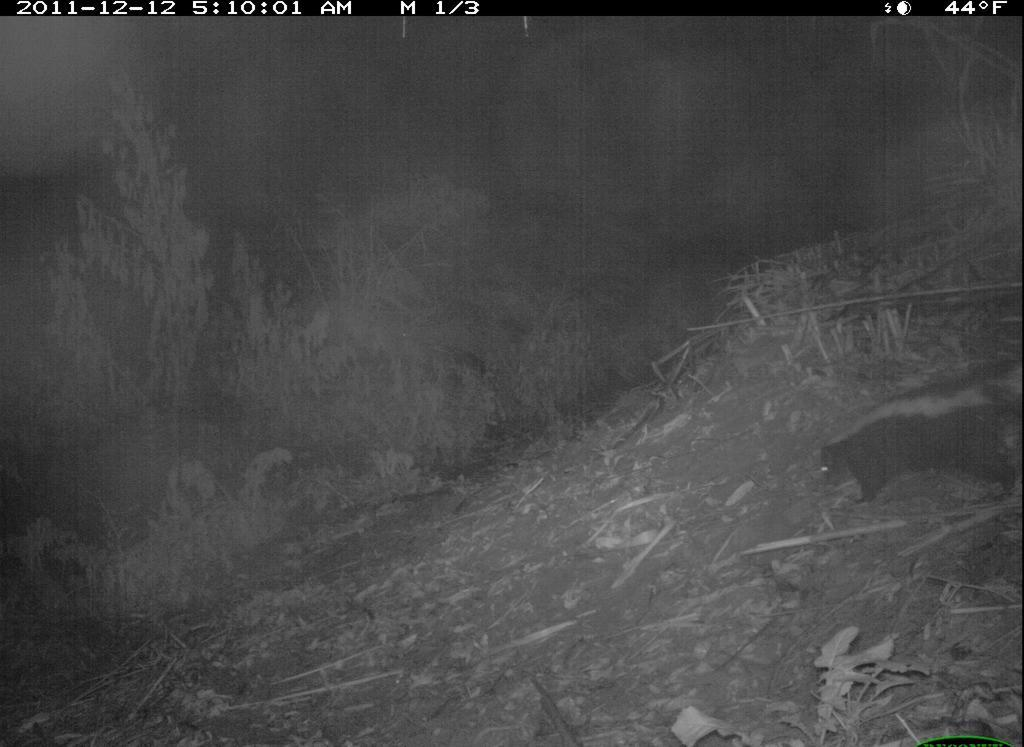skunk: (818, 354, 1022, 530)
